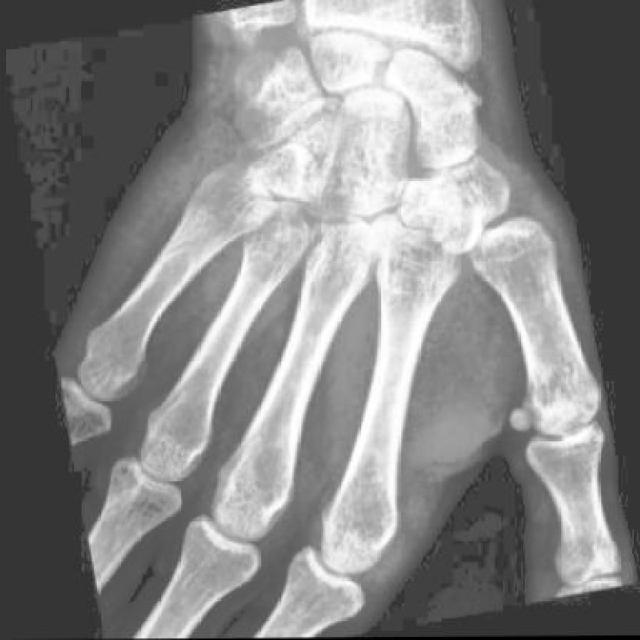Fracture: (409, 78, 491, 133)
